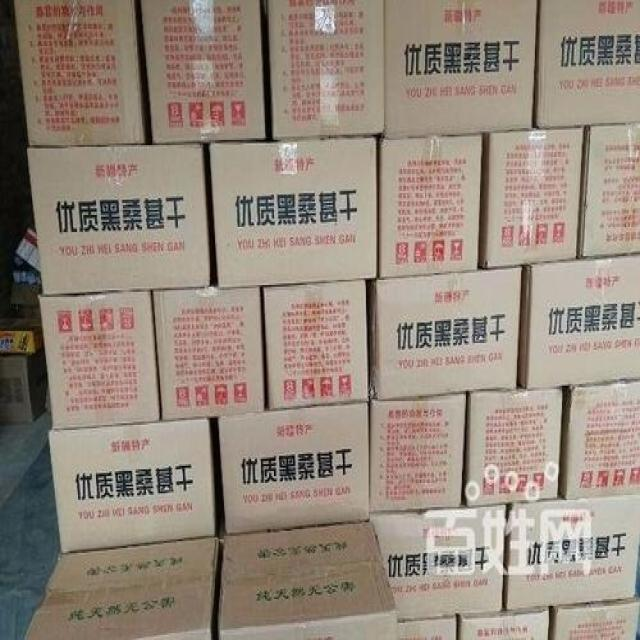box: (28, 143, 211, 297), (209, 135, 378, 290), (47, 416, 219, 556), (218, 519, 397, 640), (366, 265, 522, 401), (384, 0, 538, 137), (216, 401, 370, 536), (24, 534, 219, 640), (13, 0, 146, 147), (141, 0, 265, 143), (37, 290, 161, 430), (517, 253, 640, 389), (370, 503, 506, 623), (268, 2, 384, 140), (503, 495, 640, 611), (477, 126, 586, 270), (151, 287, 264, 422), (379, 133, 483, 278), (262, 280, 369, 411), (536, 2, 640, 131), (369, 393, 466, 514), (466, 387, 562, 505), (558, 379, 640, 500), (579, 123, 640, 259), (549, 599, 640, 640), (1, 348, 47, 425), (457, 609, 549, 640), (0, 316, 42, 353), (396, 616, 457, 640), (15, 227, 40, 271)
